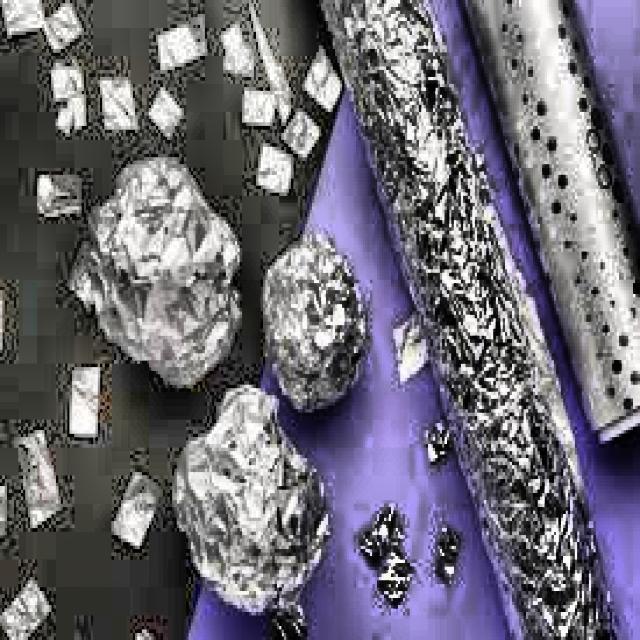Foil: (322, 0, 620, 640), (57, 134, 259, 400), (153, 368, 340, 640), (260, 225, 380, 428)
